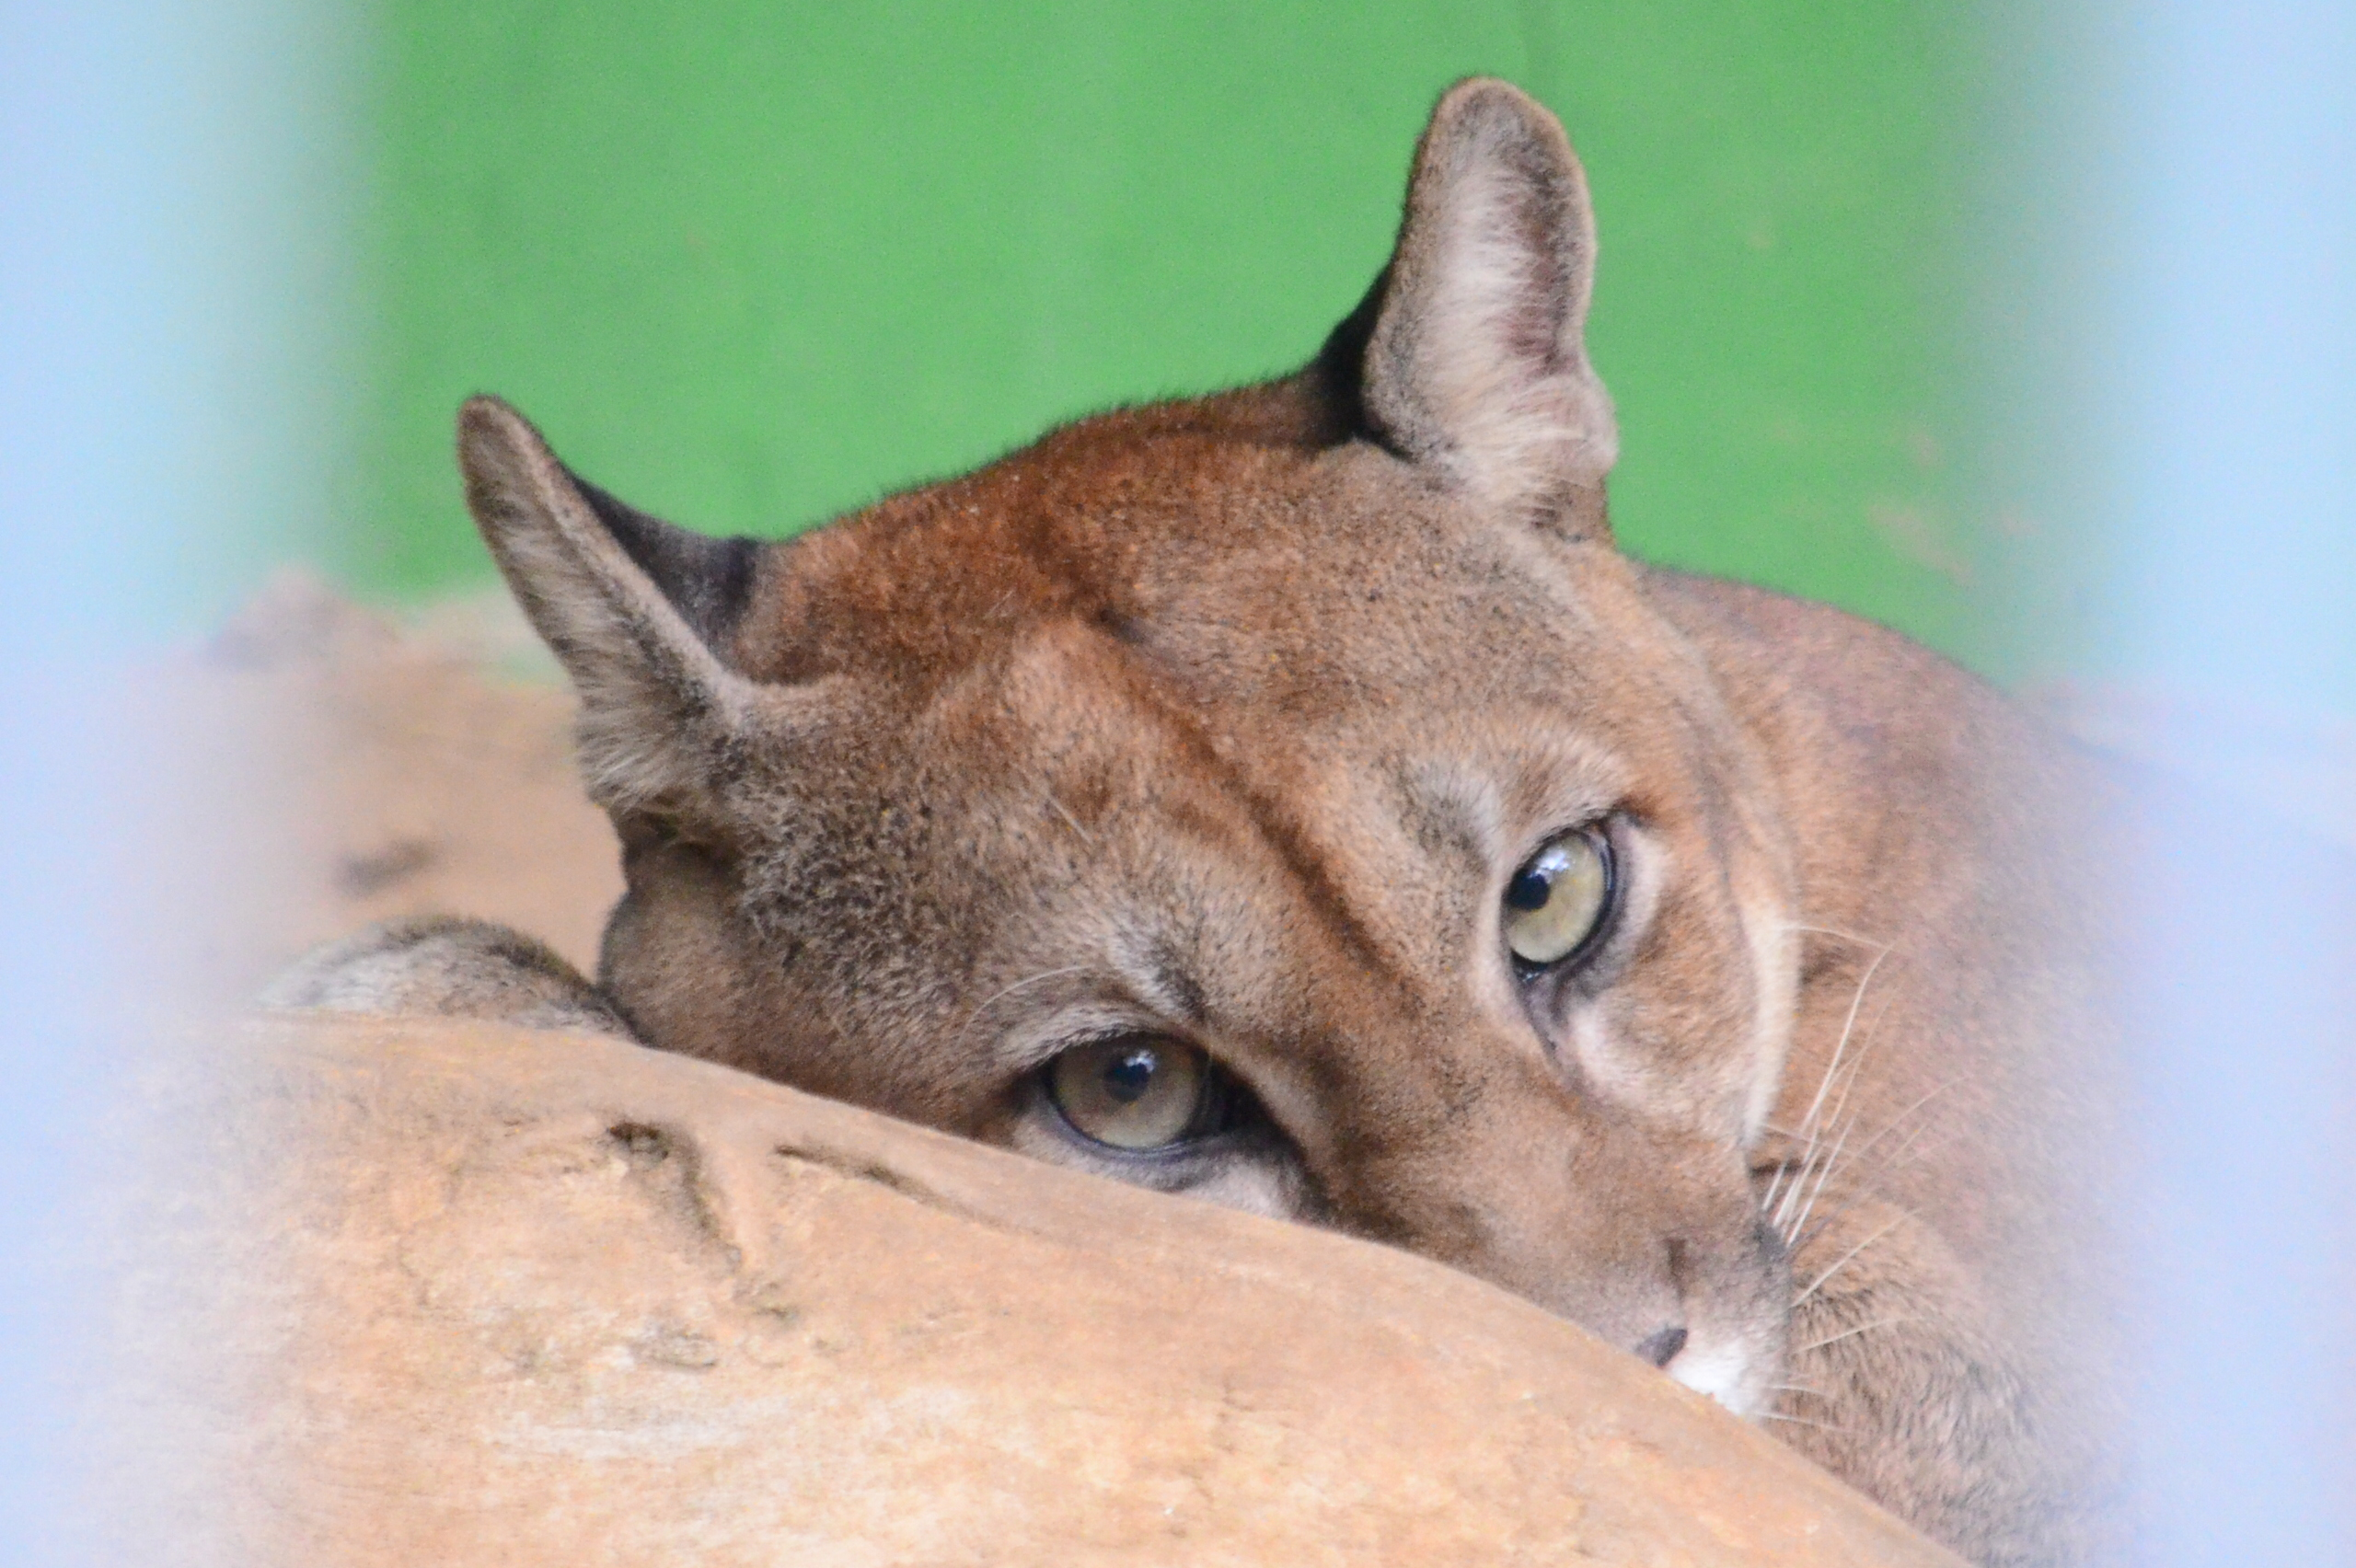OncaParda: (420, 73, 2225, 1521)
